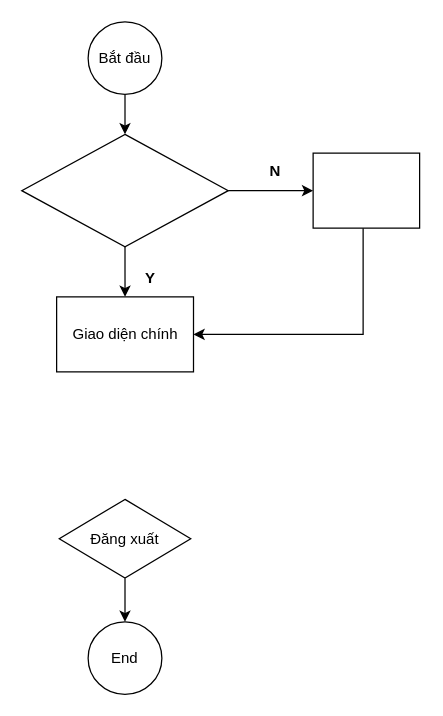
This 443x716 diagram has some shape labels left out. Each missing label, with the centre of its shape:
Giao diện đăng nhập: point 366,190
Ứng dụng đã được đăng nhập trước đó?: point 124,190
